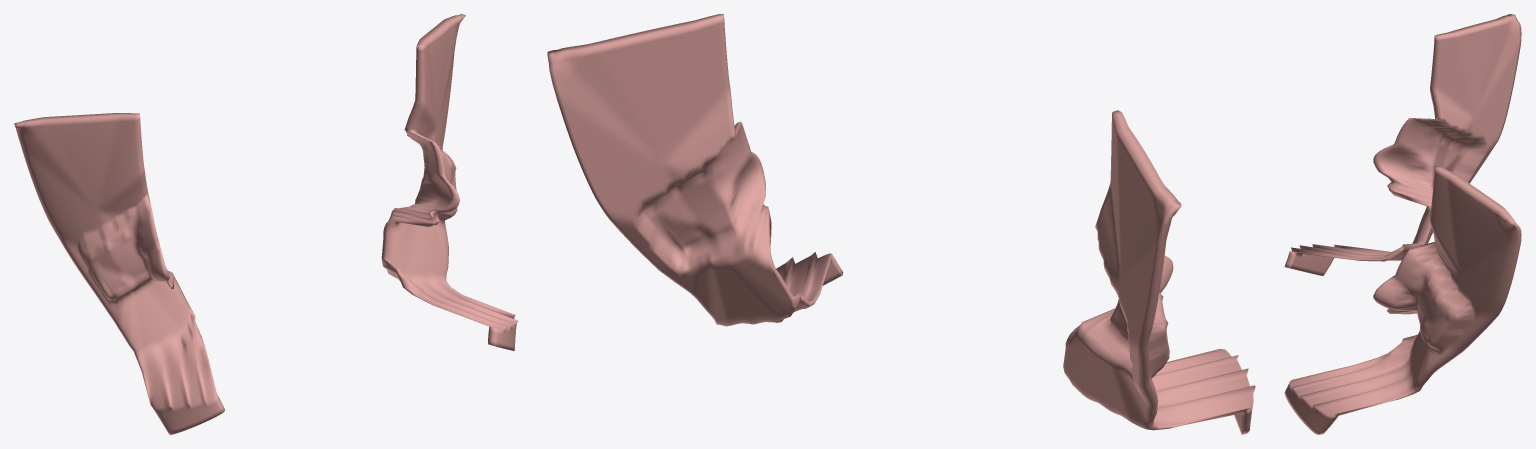
Rendered from levator_labii_superioris.glb.
3 renders of one model, left to right at view 1: azimuth 30°, elevation 25°; view 2: azimuth 150°, elevation 25°; view 3: azimuth 270°, elevation 25°, orthographic. The views are drawn at different scales.
Parts seen in each view (by area): view 1: levator_labii_superioris_R, levator_labii_superioris_L; view 2: levator_labii_superioris_L, levator_labii_superioris_R; view 3: levator_labii_superioris_L, levator_labii_superioris_R.
Part boxes in pixels (box(x1,y1,x2,y2)): levator_labii_superioris_R: box(14, 113, 224, 434); levator_labii_superioris_L: box(381, 14, 518, 350); levator_labii_superioris_L: box(547, 14, 843, 326); levator_labii_superioris_R: box(1063, 110, 1255, 434); levator_labii_superioris_L: box(1284, 165, 1521, 434); levator_labii_superioris_R: box(1284, 14, 1521, 275).
Bounding box in the file's own units: 0.0499 × 0.0282 × 0.0239.
